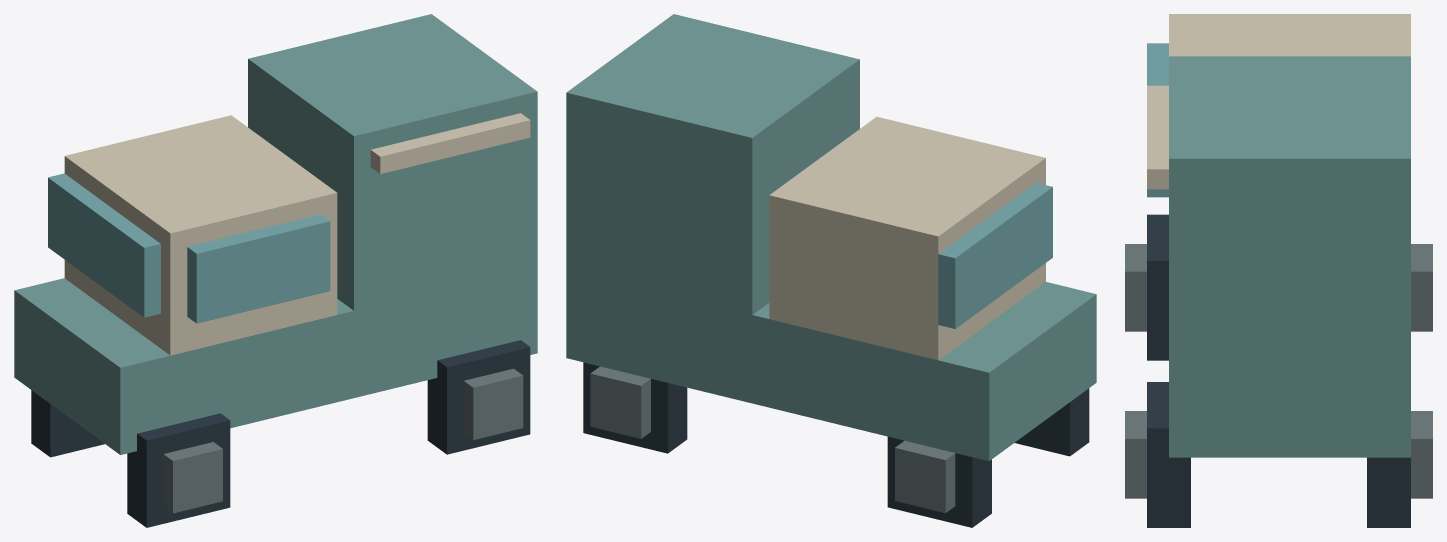
File: health-19.glb
3 renders of one model, left to right at view 1: azimuth 30°, elevation 25°; view 2: azimuth 150°, elevation 25°; view 3: azimuth 270°, elevation 25°, orthographic. The views are drawn at different scales.
Parts seen in each view (by area): view 1: Ambulance; view 2: Ambulance; view 3: Ambulance.
Boxes of the visible parts, <box> form: Ambulance: <box>14,14,537,527</box>; Ambulance: <box>566,14,1096,527</box>; Ambulance: <box>1125,14,1432,527</box>.
Bounding box in the file's own units: 2 × 1.52 × 1.12.
